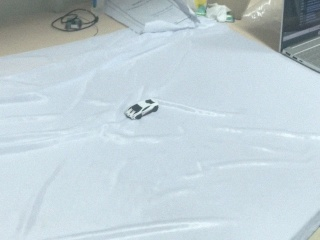toy_car: (125, 99, 159, 120)
